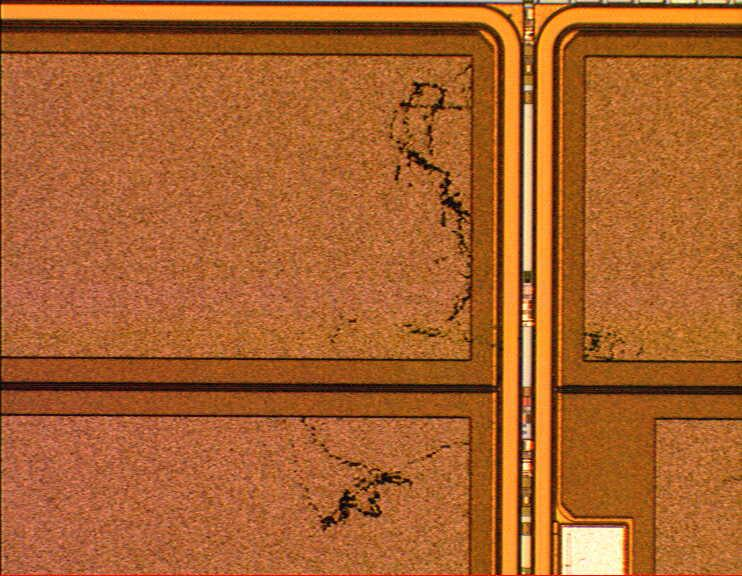SCRATCH: (269, 57, 655, 542)
